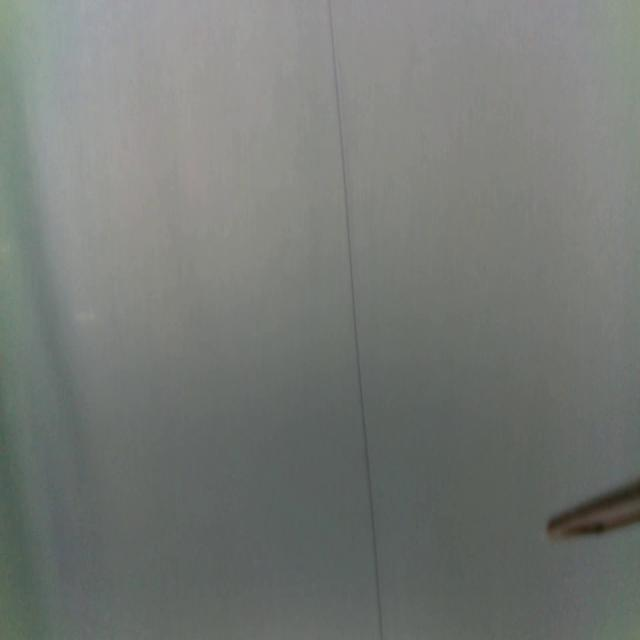crease: (328, 0, 384, 640)
